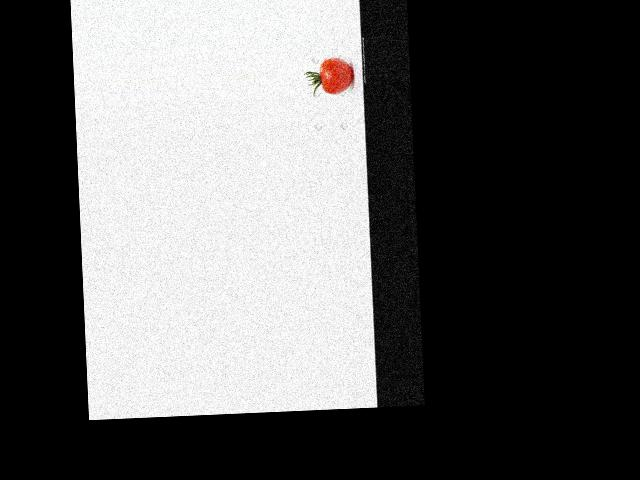tomato: (320, 57, 353, 95)
